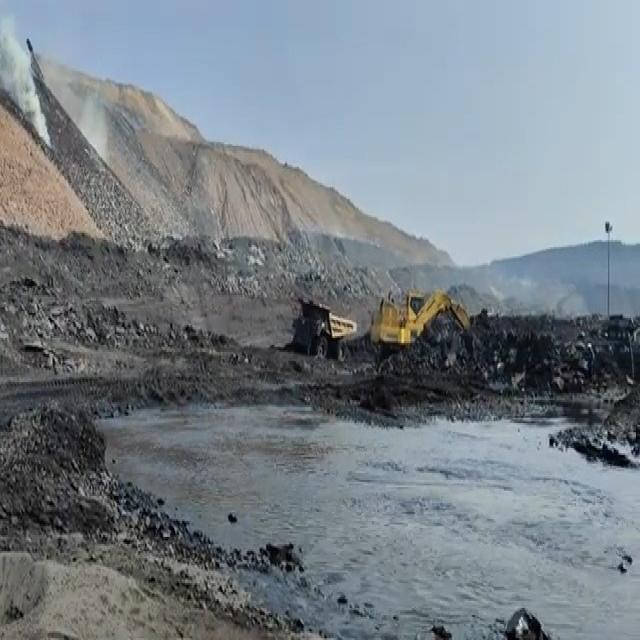dump_truck: (376, 284, 494, 363), (293, 290, 356, 366)
